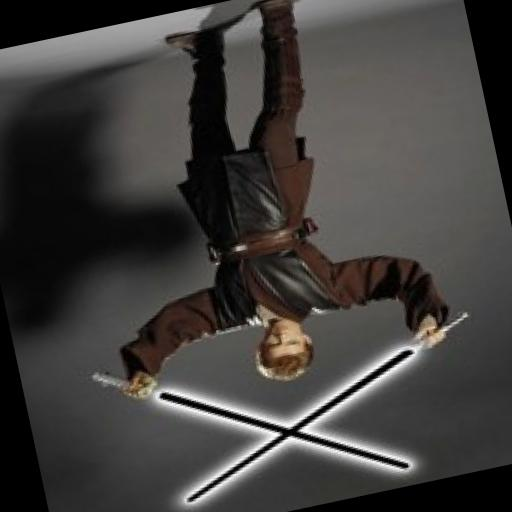human: (52, 0, 457, 410)
lightsaber: (158, 308, 496, 508), (87, 311, 410, 512)
